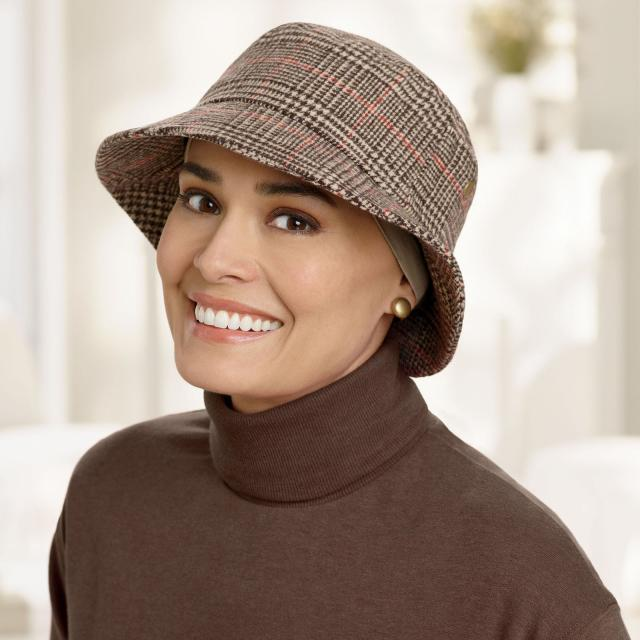hat: (89, 20, 484, 392)
